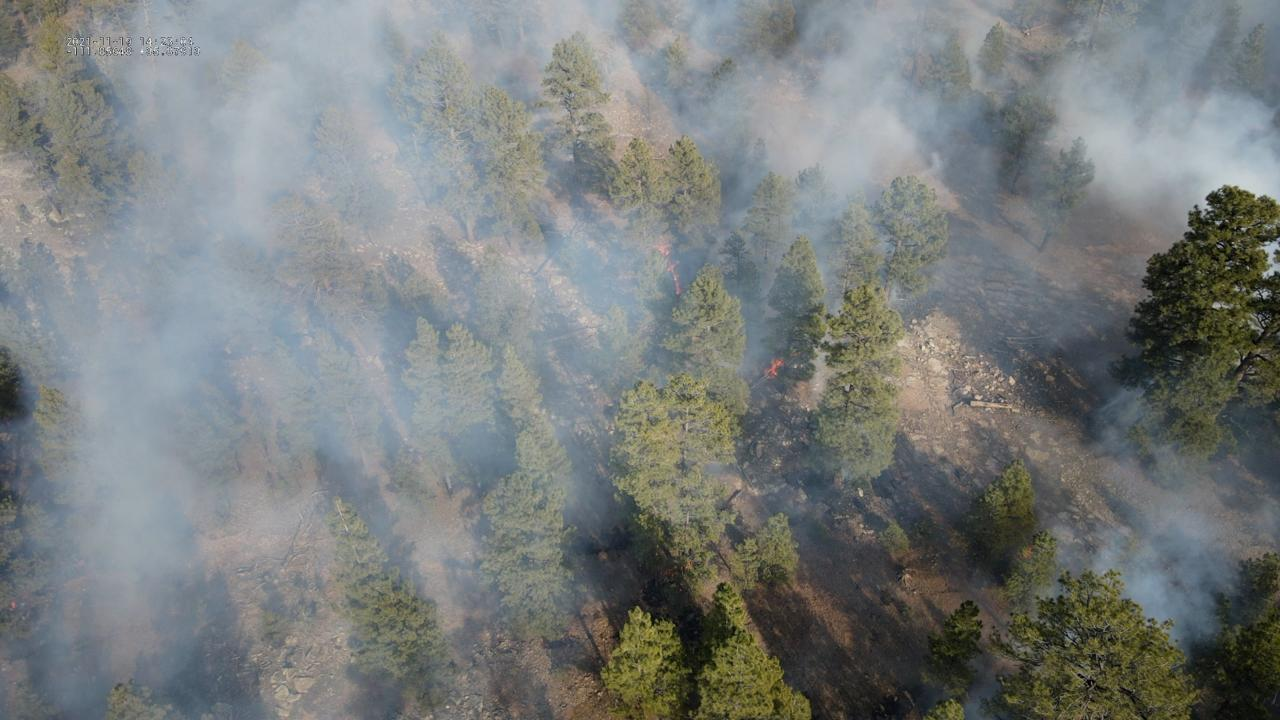fire: (653, 241, 681, 297), (758, 354, 783, 379), (1018, 543, 1037, 559), (789, 351, 801, 359)
smoke: (0, 0, 1280, 720)
